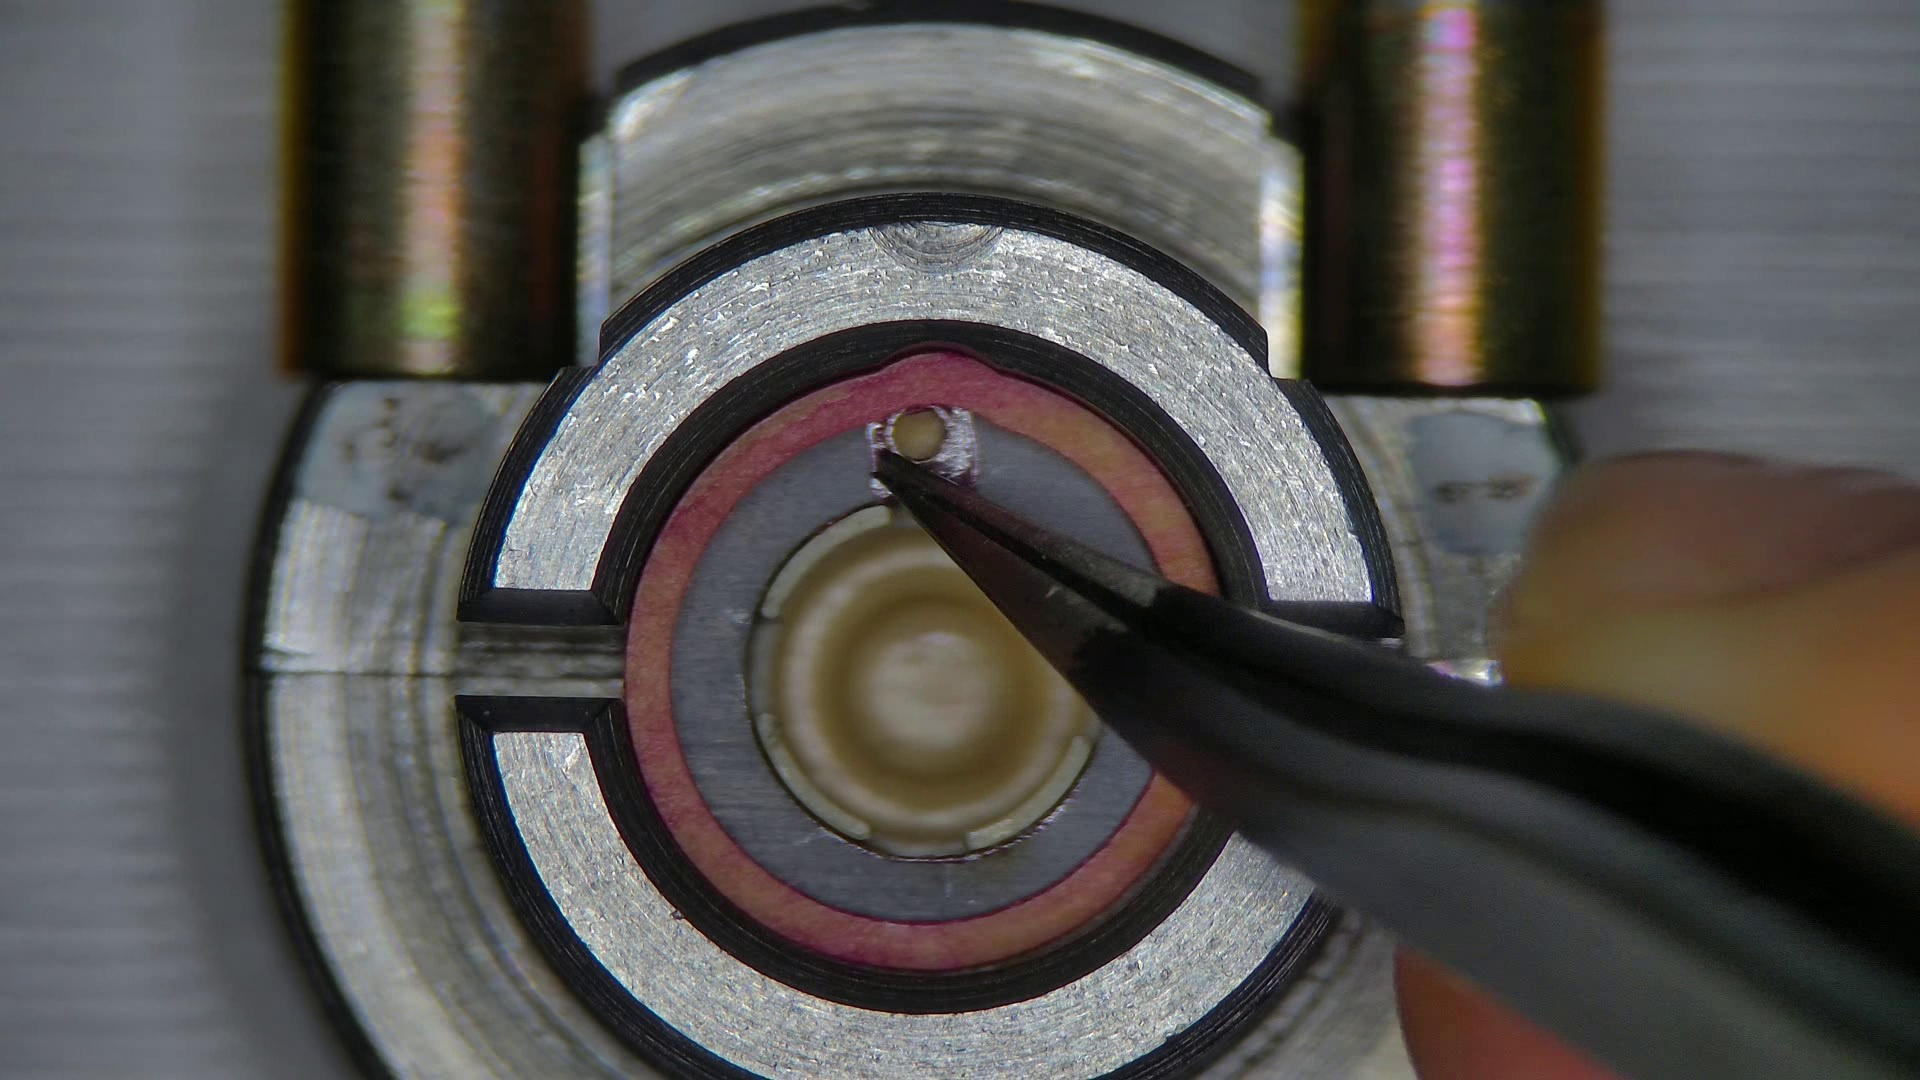GreyOring: (625, 352, 1201, 972)
YellowOring: (673, 417, 1150, 919), (936, 413, 1149, 564)
